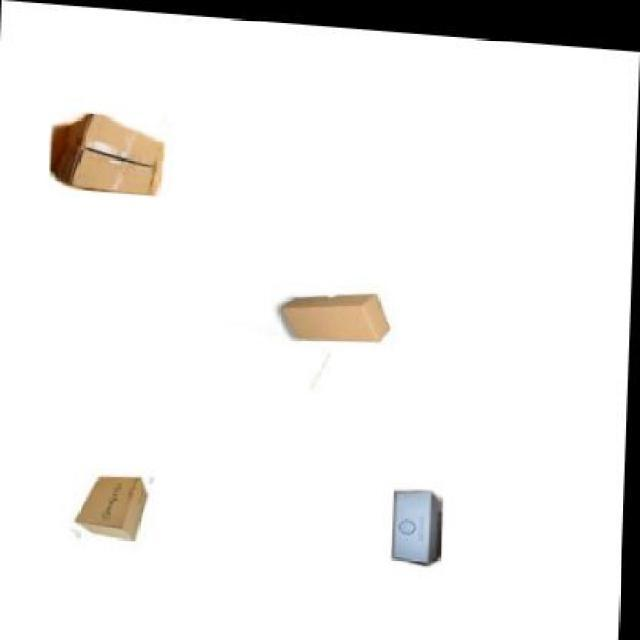box: (51, 110, 165, 194), (278, 280, 394, 337), (77, 471, 156, 539), (397, 480, 445, 556)
